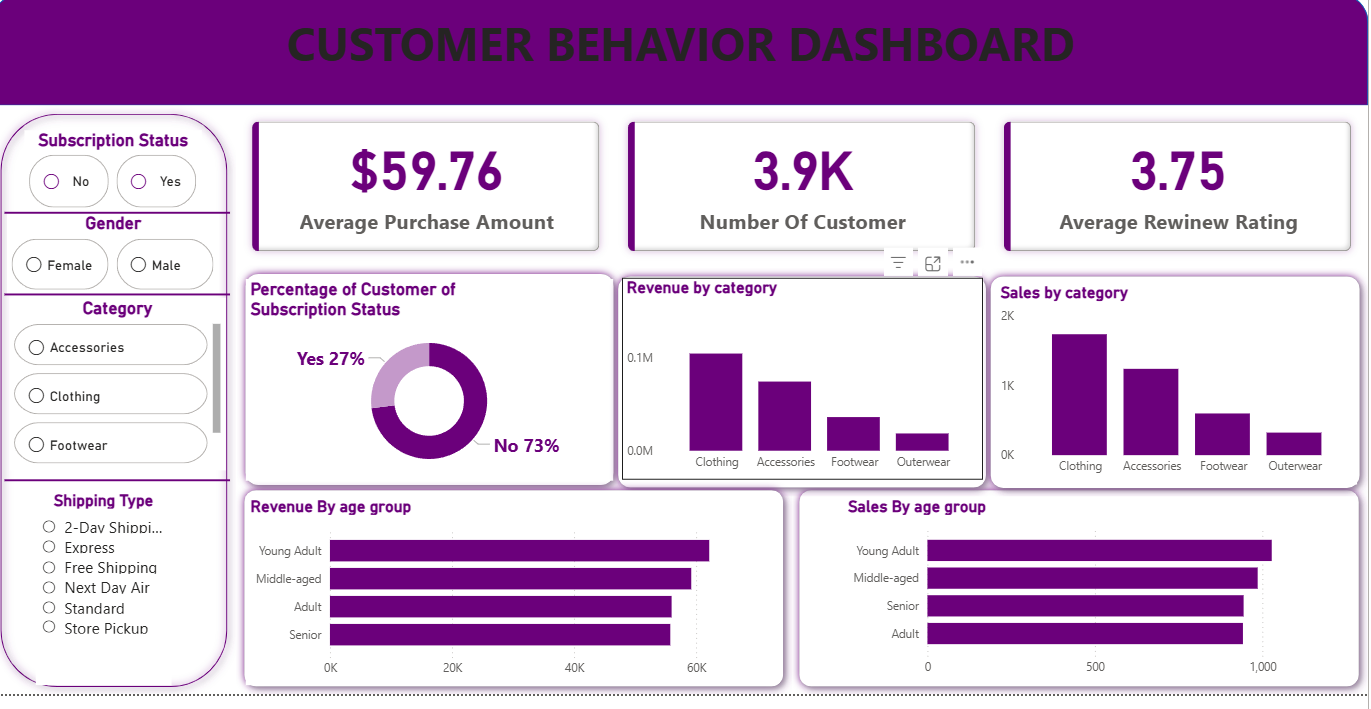

What the dashboard file says about the page in this screenshot:
{"tool":"powerbi","page":{"name":"Page 1","canvas":[1435,731],"ordinal":0},"visuals":[{"type":"shape","box":[832.9,508.6,601.4,222.9],"z":0},{"type":"clusteredBarChart","title":"Sales By age group ","fields":{"Category":["customer_behavior customer.age_group"],"Y":["CountNonNull(customer_behavior customer.customer_id)"]},"box":[887.1,524.3,527.1,195.7],"z":1000},{"type":"shape","box":[0,0,1435.3,116.4],"z":2000},{"type":"cardVisual","fields":{"Data":["customer_behavior customer.avg_purchase_amount","customer_behavior customer.number_of_customer","customer_behavior customer.avg_rewinew_rating"]},"box":[254.9,117.8,1180.4,167.6],"z":3000},{"type":"textbox","box":[200.9,12.5,1034.9,91.4],"z":4000},{"type":"shape","box":[254.9,282.6,401.8,238.3],"z":5000},{"type":"donutChart","title":"Percentage of Customer of Subscription Status","fields":{"Category":["customer_behavior customer.subscription_status"],"Y":["CountNonNull(customer_behavior customer.customer_id)"]},"box":[264.3,297.1,382.9,210],"z":6000},{"type":"shape","box":[644.2,285.4,401.8,238.3],"z":7000},{"type":"shape","box":[1032.9,285.7,402.9,238.6],"z":8000},{"type":"clusteredColumnChart","title":"Revenue by category","fields":{"Y":["Sum(customer_behavior customer.purchase_amount)"],"Category":["customer_behavior customer.category"]},"box":[656.7,296.5,376.8,210.6],"z":9000},{"type":"clusteredColumnChart","title":"Sales by category","fields":{"Y":["CountNonNull(customer_behavior customer.customer_id)"],"Category":["customer_behavior customer.category"]},"box":[1047.1,301.4,377.1,210],"z":10000},{"type":"shape","box":[0,115.7,254.3,615.7],"z":11000},{"type":"advancedSlicerVisual","fields":{"Values":["customer_behavior customer.subscription_status"]},"box":[32.6,142.1,185.1,86],"z":12000},{"type":"advancedSlicerVisual","fields":{"Values":["customer_behavior customer.gender"]},"box":[15.5,228.2,221.8,85.5],"z":13000},{"type":"advancedSlicerVisual","fields":{"Values":["customer_behavior customer.category"]},"box":[18.2,316.4,225.5,180],"z":14000},{"type":"shape","box":[12.7,198.2,235.5,60],"z":15000},{"type":"shape","box":[12.7,477.3,235.5,60],"z":16000},{"type":"shape","box":[12.7,282.7,235.5,60.9],"z":17000},{"type":"listSlicer","fields":{"Values":["customer_behavior customer.shipping_type"]},"box":[45.7,517.1,141.4,202.9],"z":18000},{"type":"shape","box":[1198.6,44.3,110,60],"z":19000},{"type":"shape","box":[254.3,508.6,580,222.9],"z":20000},{"type":"clusteredBarChart","title":"Revenue By age group ","fields":{"Category":["customer_behavior customer.age_group"],"Y":["Sum(customer_behavior customer.purchase_amount)"]},"box":[264.3,524.3,548.6,197.1],"z":21000}]}

Visuals, with their boxes in screenshot pixels (x1, y1, x2, y2), scaled from the page's 1435x731 canvas onto the 1371x709 screenshot:
shape: 796:493:1370:708
"Sales By age group " clusteredBarChart: 848:509:1351:698
shape: 0:0:1370:113
cardVisual - customer_behavior customer.avg_purchase_amount x customer_behavior customer.number_of_customer: 244:114:1370:277
textbox: 192:12:1181:101
shape: 244:274:627:505
"Percentage of Customer of Subscription Status" donutChart: 253:288:618:492
shape: 615:277:999:508
shape: 987:277:1370:509
"Revenue by category" clusteredColumnChart: 627:288:987:492
"Sales by category" clusteredColumnChart: 1000:292:1361:496
shape: 0:112:243:708
advancedSlicerVisual - customer_behavior customer.subscription_status: 31:138:208:221
advancedSlicerVisual - customer_behavior customer.gender: 15:221:227:304
advancedSlicerVisual - customer_behavior customer.category: 17:307:233:481
shape: 12:192:237:250
shape: 12:463:237:521
shape: 12:274:237:333
listSlicer - customer_behavior customer.shipping_type: 44:502:179:698
shape: 1145:43:1250:101
shape: 243:493:797:708
"Revenue By age group " clusteredBarChart: 253:509:777:700
